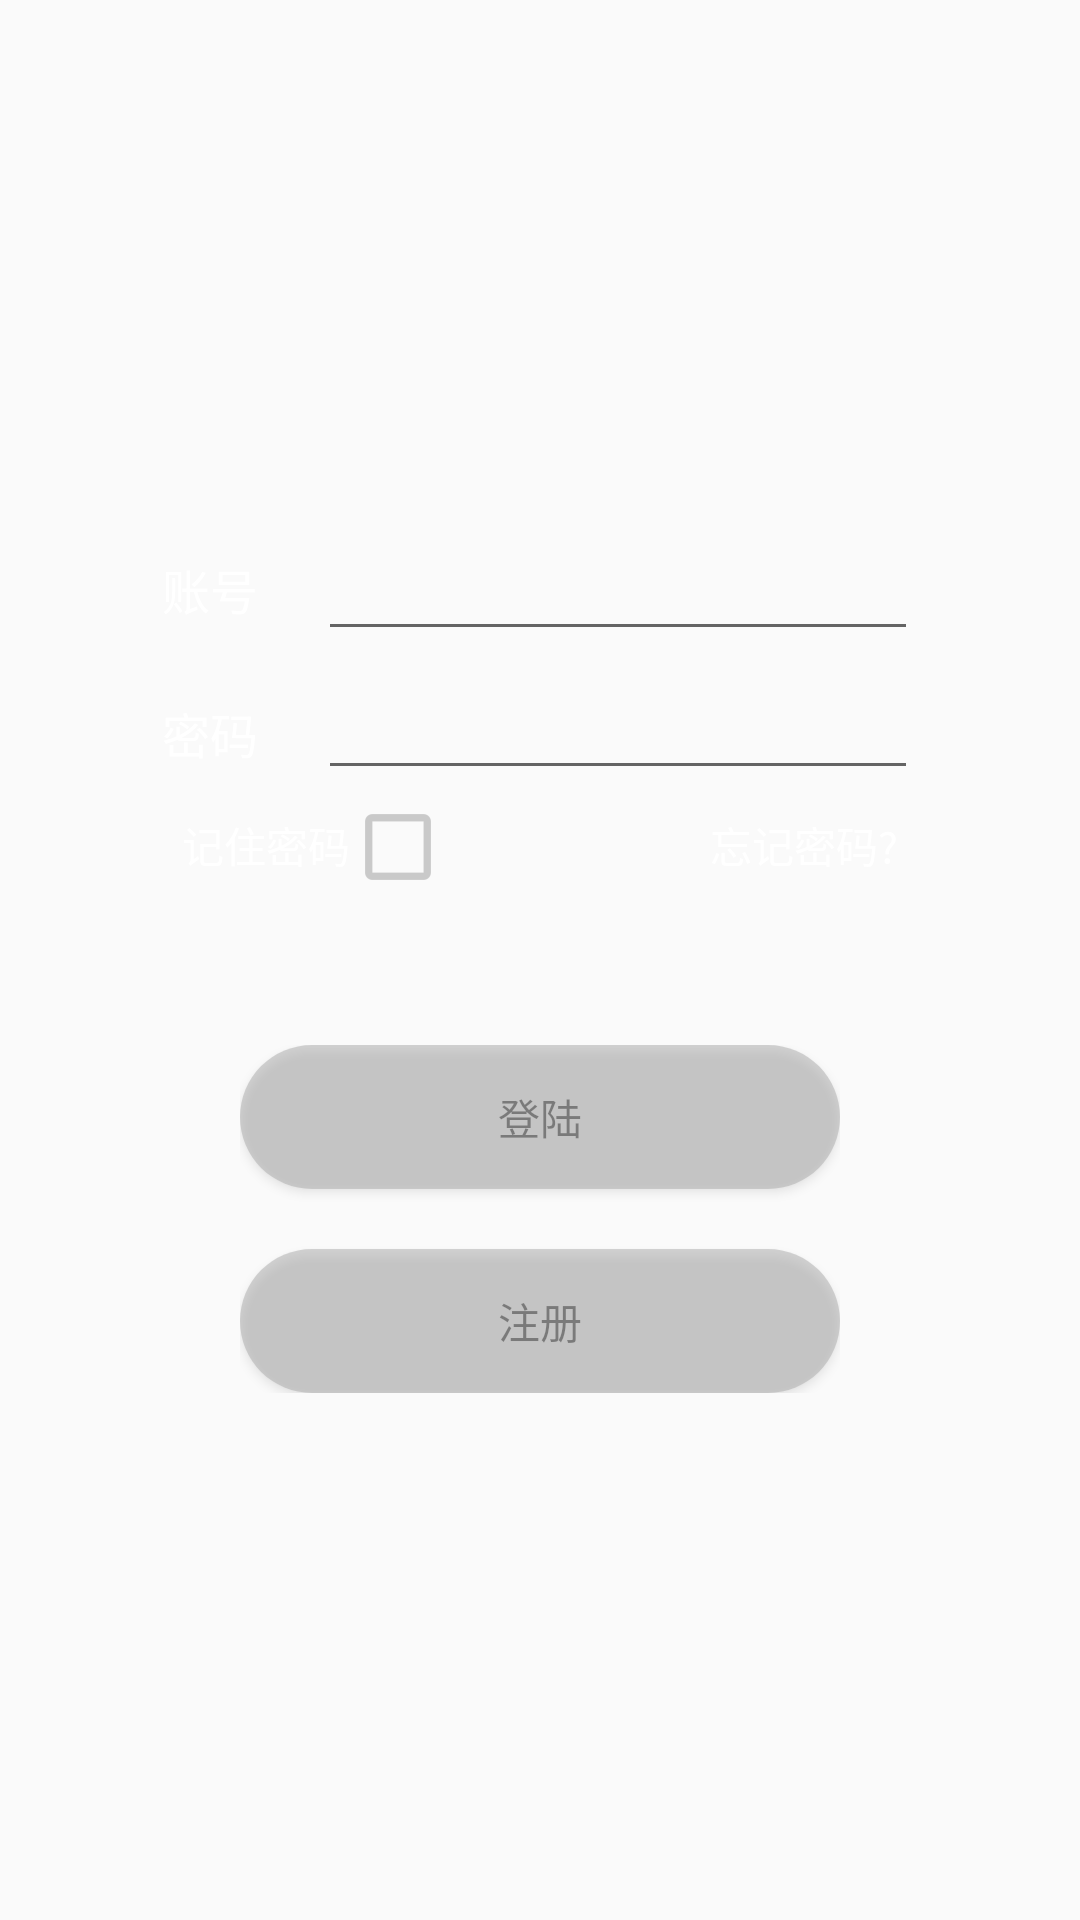

Point at icon controls on the screen. Image size 1080 × 1920, points as point (x, y).
check: point (398, 847)
